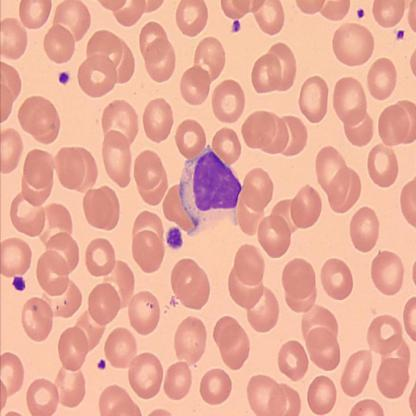Atypical lymphocyte: (178, 142, 244, 241)
